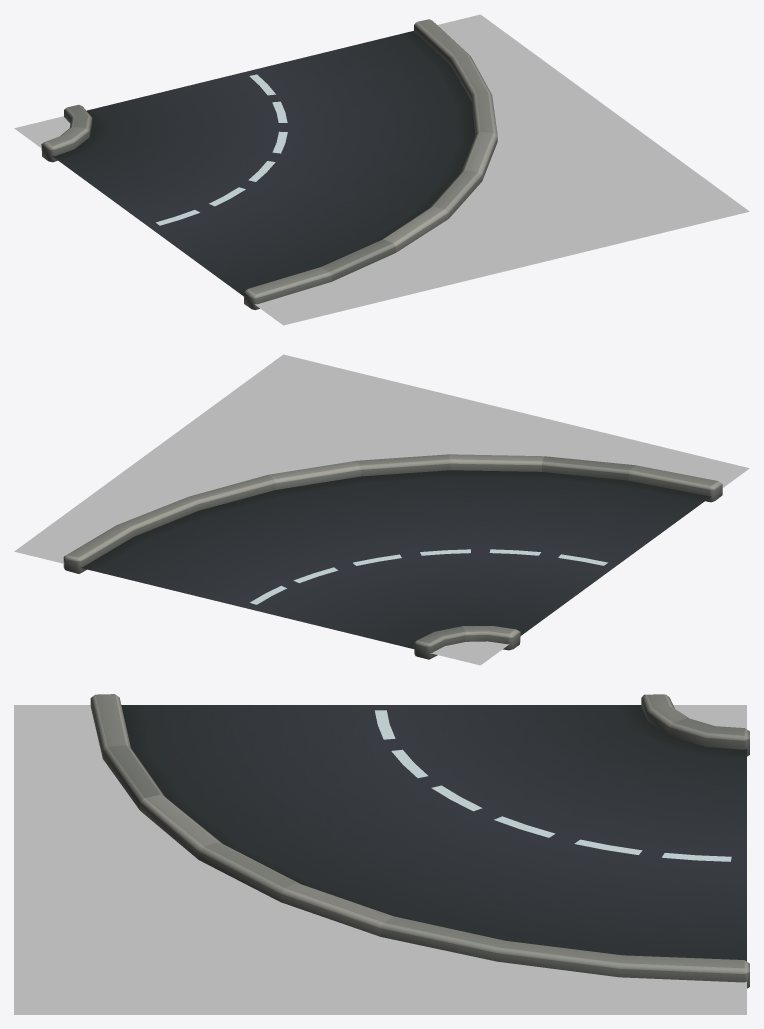
File: road_section_turn_tight.fbx
3 views of the same model, one above another, from view 1: azimuth 30°, elevation 25°; view 2: azimuth 150°, elevation 25°; view 3: azimuth 270°, elevation 25° (orthographic). The views are drawn at different scales.
Parts seen in each view (by area): view 1: road_section_turn_tight, road_section_turn_tight_sidewalk; view 2: road_section_turn_tight, road_section_turn_tight_sidewalk; view 3: road_section_turn_tight, road_section_turn_tight_sidewalk.
Part boxes in pixels (left/top/right/bottom): road_section_turn_tight: left=41, top=19, right=497, bottom=310; road_section_turn_tight_sidewalk: left=14, top=14, right=749, bottom=325; road_section_turn_tight: left=63, top=454, right=722, bottom=659; road_section_turn_tight_sidewalk: left=14, top=354, right=749, bottom=665; road_section_turn_tight: left=90, top=694, right=749, bottom=988; road_section_turn_tight_sidewalk: left=14, top=705, right=746, bottom=1014.
Size of the model in its own units: 1608 by 54.75 by 1606.
